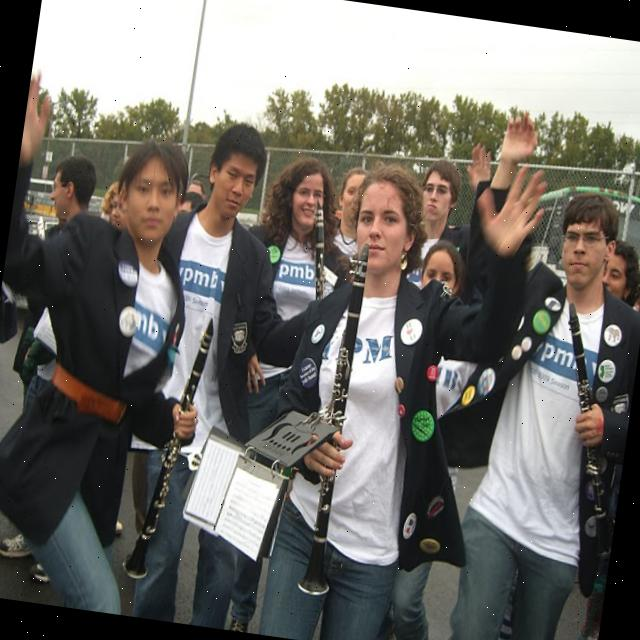clarinet: (294, 239, 380, 600), (118, 310, 221, 588), (534, 302, 640, 556), (299, 198, 339, 300)
